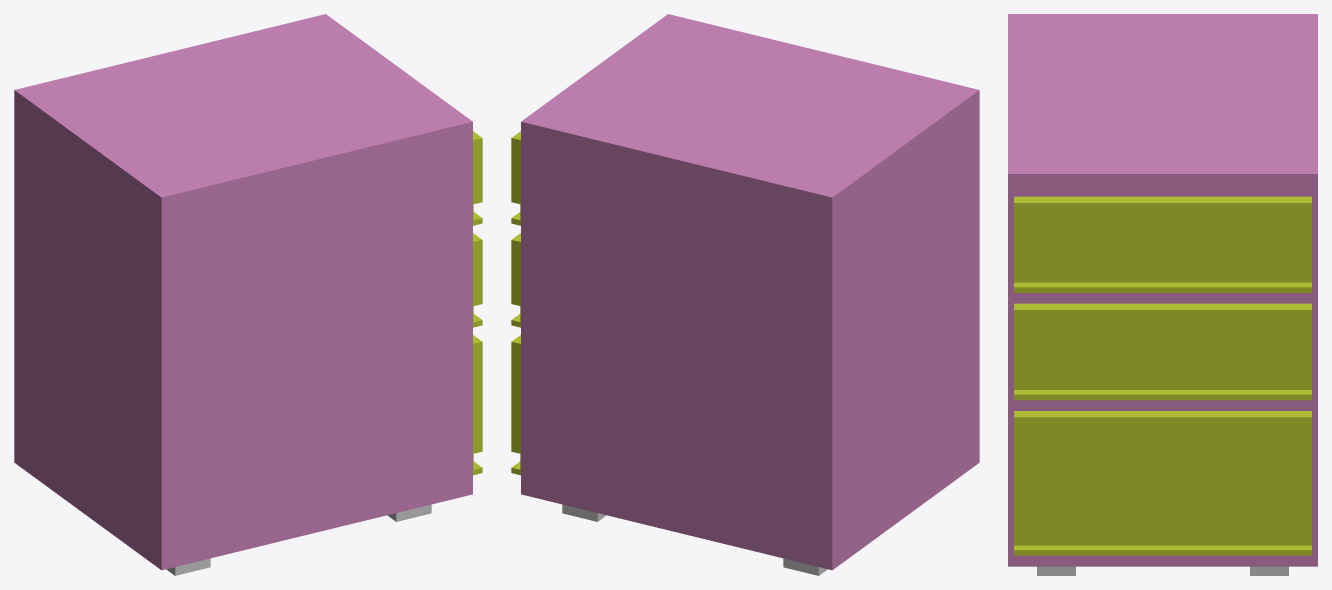
Rendered from CajonA.fbx.
3 views of the same model, side by side, from view 1: azimuth 30°, elevation 25°; view 2: azimuth 150°, elevation 25°; view 3: azimuth 270°, elevation 25° (orthographic). The views are drawn at different scales.
Visible parts, largest first — view 1: Cube.003; view 2: Cube.003; view 3: Cube.003.
Boxes of the visible parts, x1,y1,x2,y2 form: Cube.003: (14, 14, 482, 575); Cube.003: (511, 14, 979, 575); Cube.003: (1008, 14, 1317, 575).
Size of the model in its own units: 73.2 by 85.36 by 57.6.
